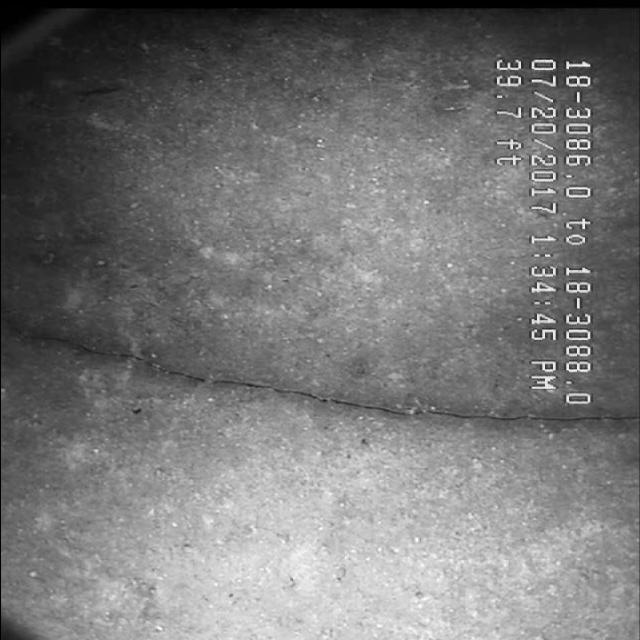Crack: (66, 358, 526, 434)
